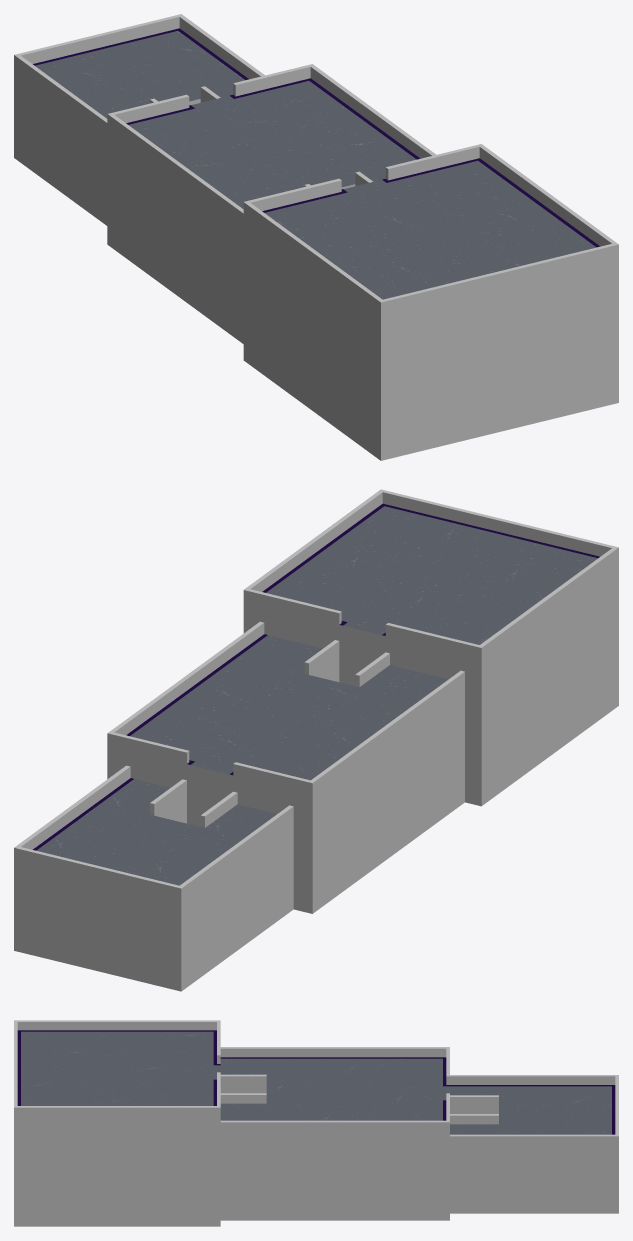
The model's file is Duel_A1_Stage_Drawbridge.fbx.
3 renders of one model, top to bottom at view 1: azimuth 30°, elevation 25°; view 2: azimuth 150°, elevation 25°; view 3: azimuth 270°, elevation 25°, orthographic. The views are drawn at different scales.
Visible parts, largest first — view 1: Platform_Cube__2_, Platform_Cube__2_.001, Platform_Cube__2_.002; view 2: Platform_Cube__2_, Platform_Cube__2_.001, Platform_Cube__2_.002; view 3: Platform_Cube__2_, Platform_Cube__2_.001, Platform_Cube__2_.002.
Boxes of the visible parts, bbox=[...] form: Platform_Cube__2_: bbox=[14, 31, 618, 460]; Platform_Cube__2_.001: bbox=[14, 14, 618, 313]; Platform_Cube__2_.002: bbox=[33, 28, 599, 247]; Platform_Cube__2_: bbox=[14, 506, 618, 991]; Platform_Cube__2_.001: bbox=[14, 489, 618, 899]; Platform_Cube__2_.002: bbox=[33, 503, 599, 850]; Platform_Cube__2_: bbox=[14, 1031, 618, 1226]; Platform_Cube__2_.001: bbox=[14, 1020, 618, 1144]; Platform_Cube__2_.002: bbox=[17, 1030, 615, 1134].
Size of the model in its own units: 3600 by 2289 by 10538.
